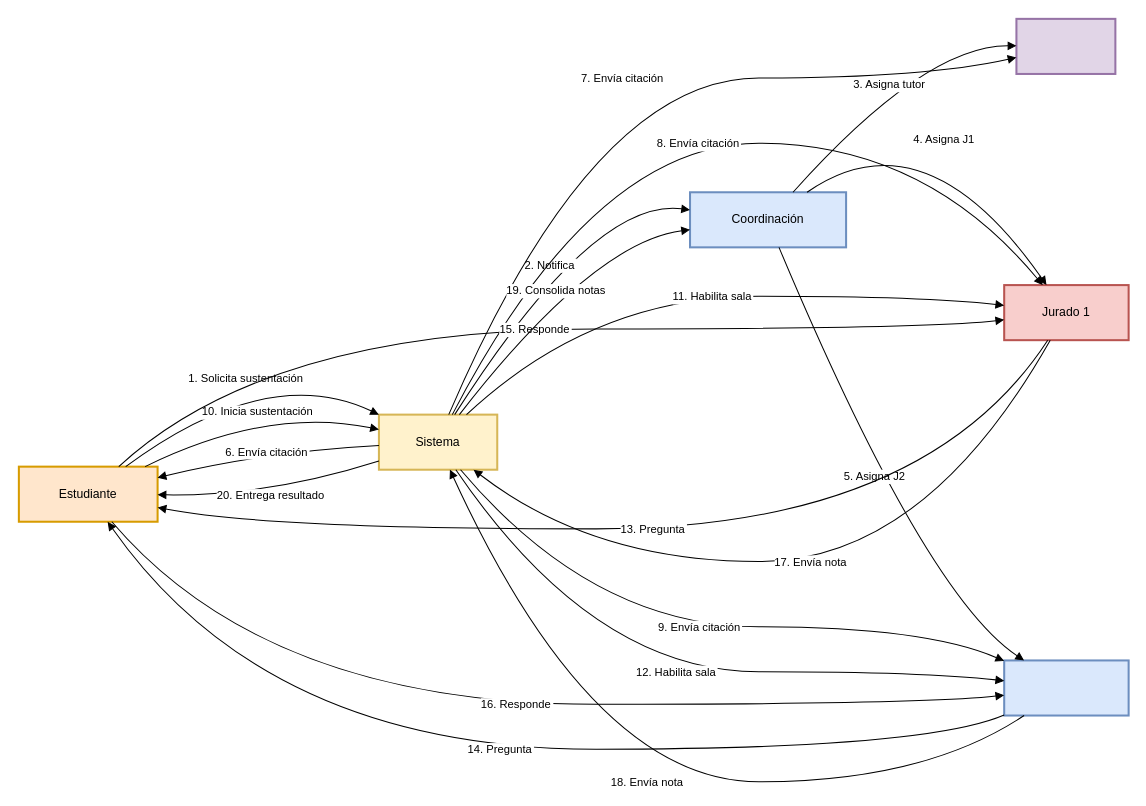
The diagram is 1146 pixels wide and 806 high, and some of its shapes have lost their labels. The shapes that lost their labels are listed below. From the top down, each one's centre as x and y in pixels, then its label:
At point 1065,45: "Tutor".
At point 1066,687: "Jurado 2".
